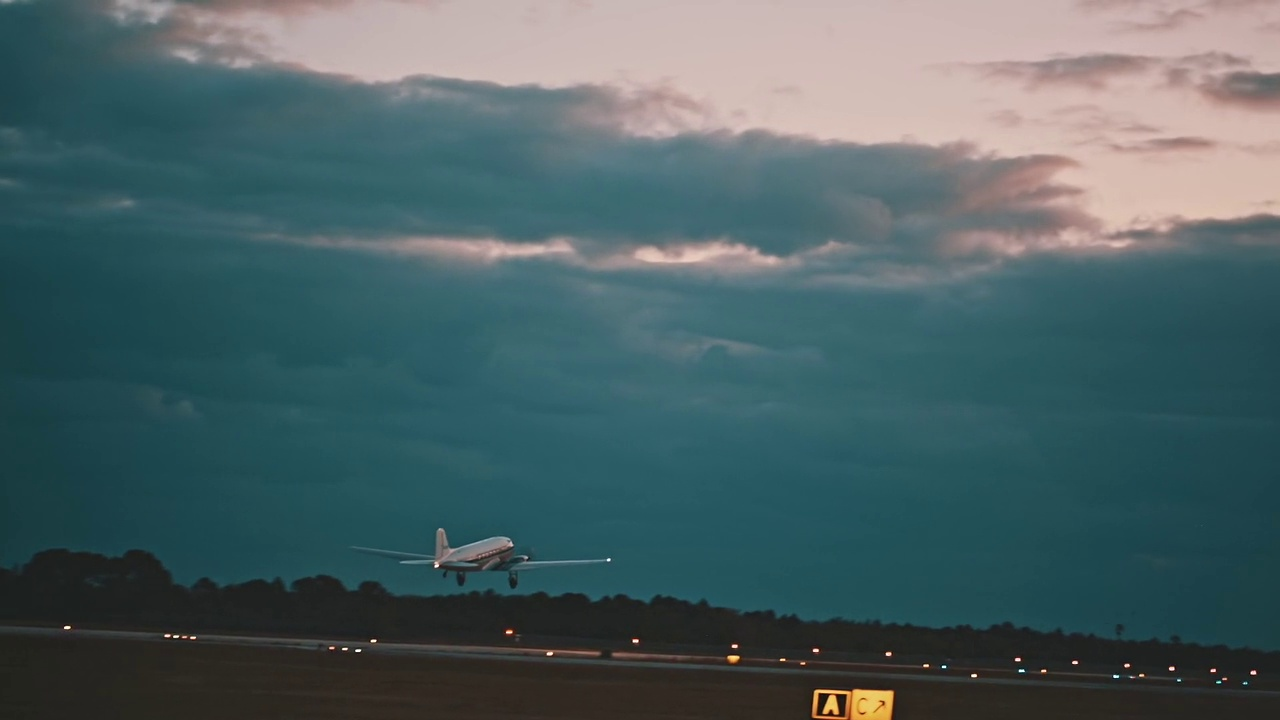plane: (349, 528, 611, 587)
